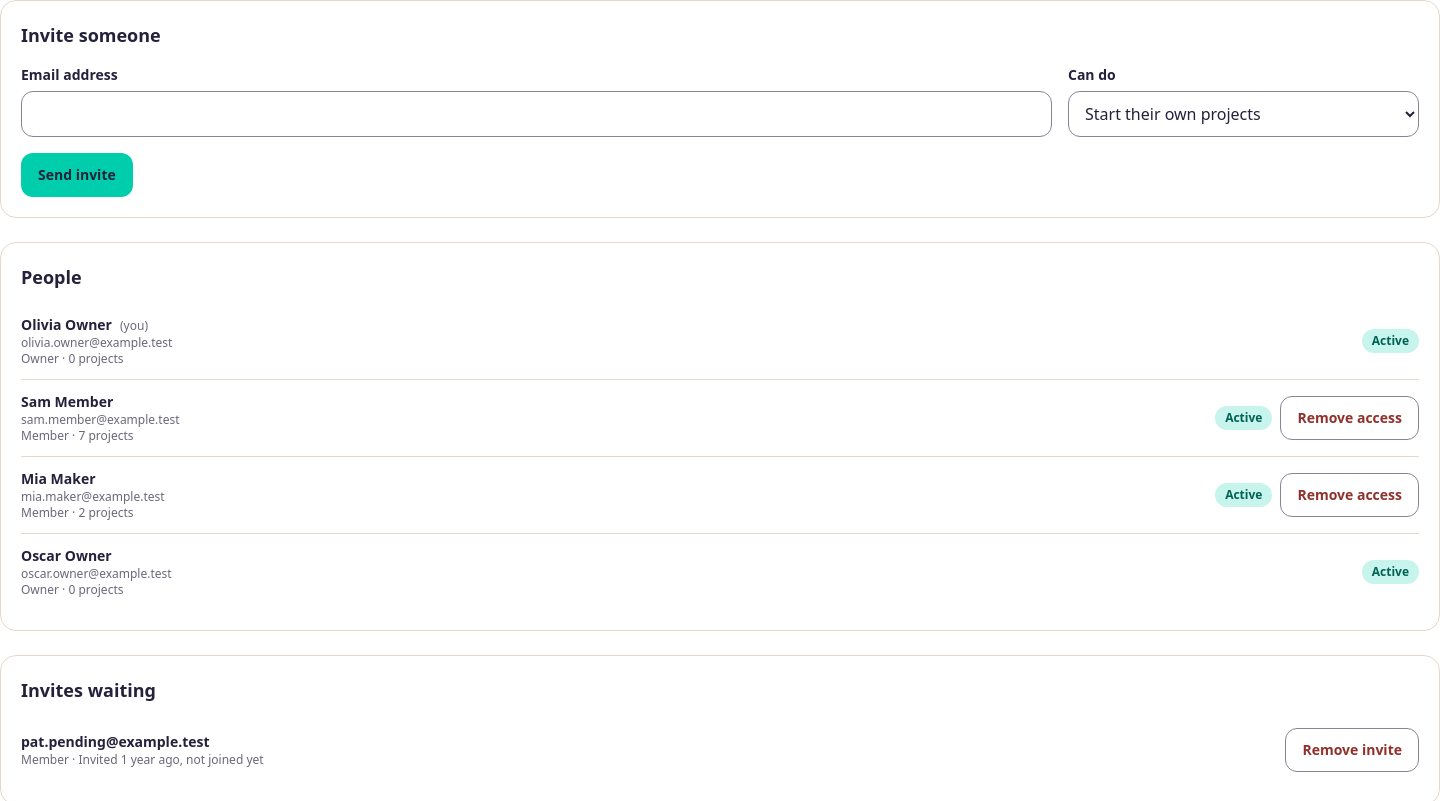
Test case: TeamManager: people › shows a generic sentence for unexpected errors
The width and height of the screenshot is (1440, 801).
Step 1. Click the button with aria-label "Remove access for Mia Maker" → x=1350, y=495, box x1=1280 y1=473 x2=1419 y2=517
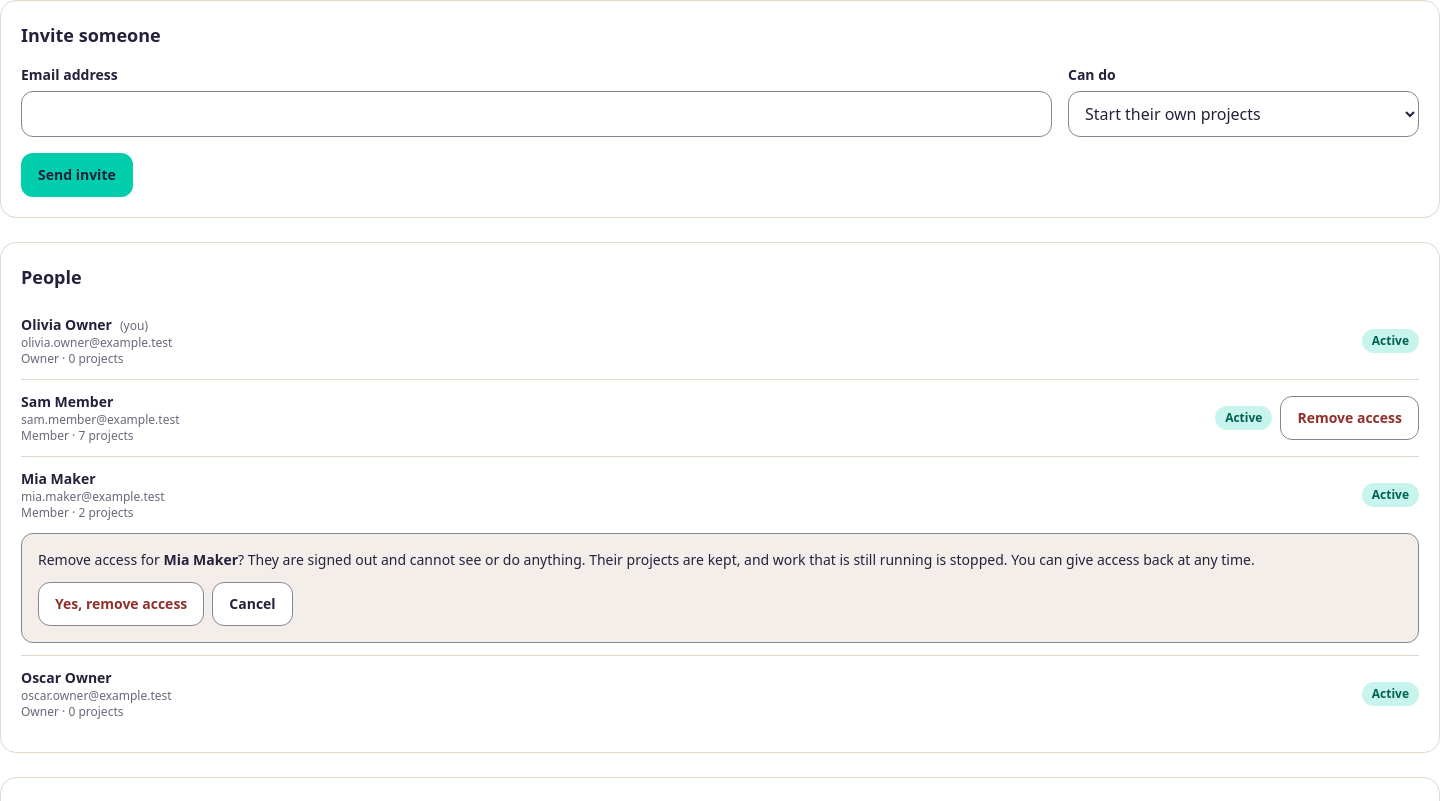
Step 2. Click the button with aria-label "Yes, remove access for Mia Maker" → x=121, y=604, box x1=38 y1=582 x2=204 y2=626
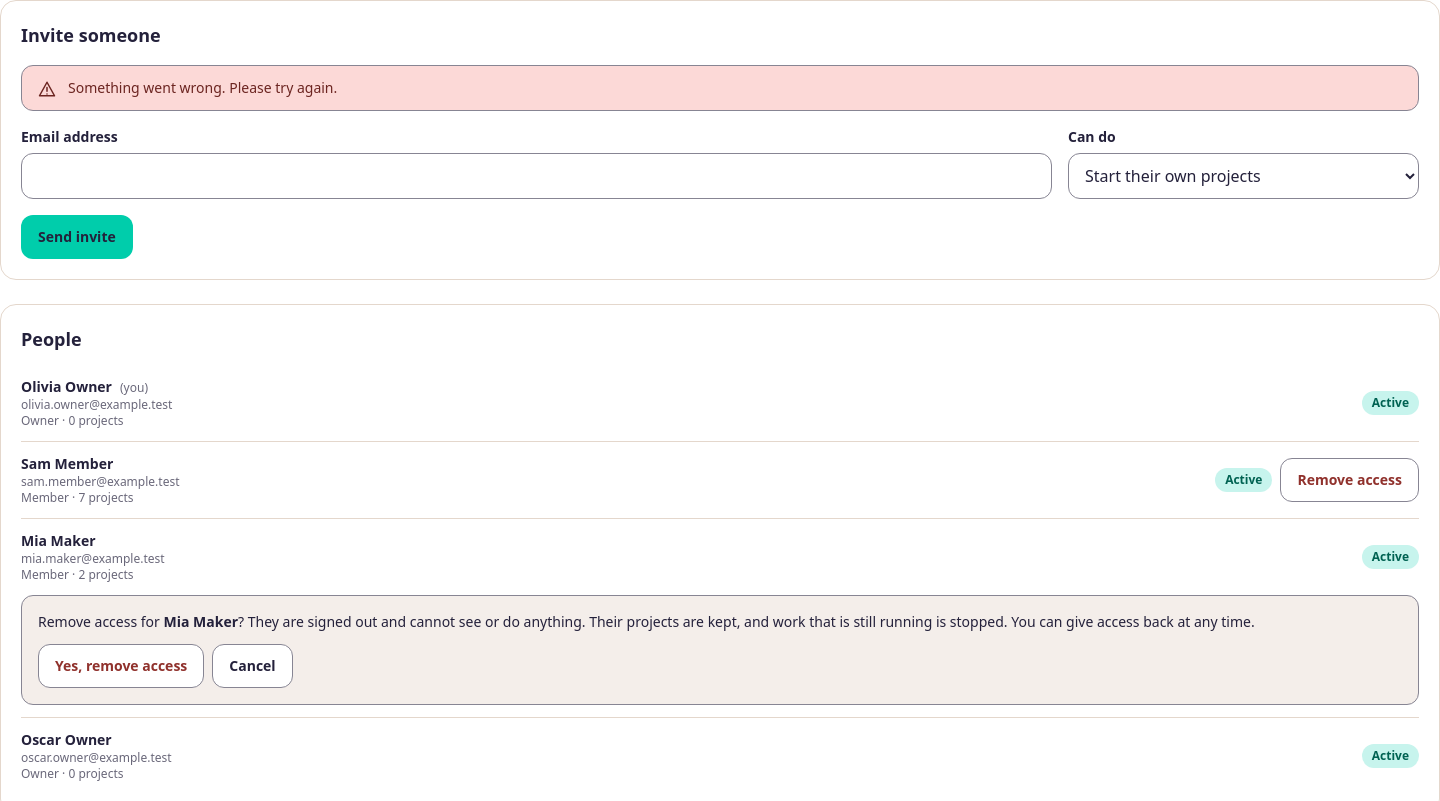
Check: the message does not show "secret detail", box x1=21 y1=65 x2=1419 y2=111
Check: the message reads "Something went wrong. Please try again.", box x1=68 y1=78 x2=337 y2=97
